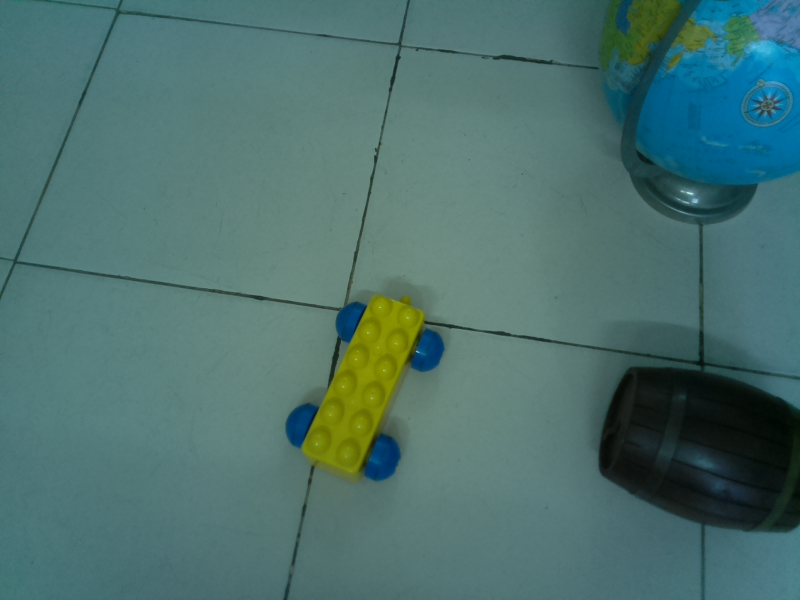toy_Car: (284, 291, 448, 484)
